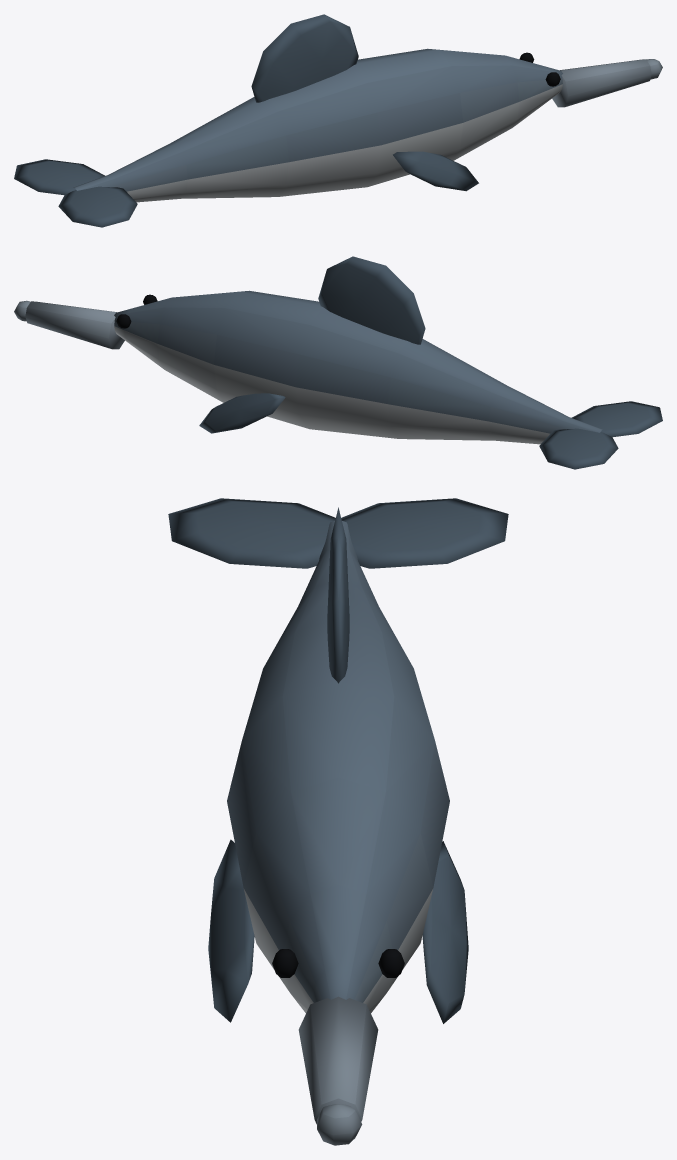
File: dolphin.glb
The picture shows the model from 3 angles, top to bottom: view 1: azimuth 30°, elevation 25°; view 2: azimuth 150°, elevation 25°; view 3: azimuth 270°, elevation 25°; orthographic projection. The views are drawn at different scales.
Parts seen in each view (by area): view 1: dolphin; view 2: dolphin; view 3: dolphin.
Part boxes in pixels (x1,y1,x2,y2): dolphin: [14, 14, 662, 227]; dolphin: [14, 256, 662, 469]; dolphin: [168, 498, 508, 1145].
Bounding box in the file's own units: 2.69 × 0.7555 × 0.6402.
